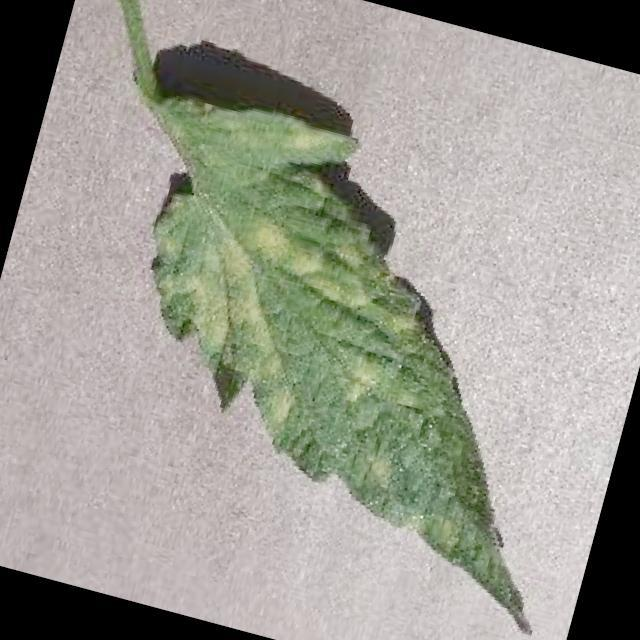Tomato mold leaf: (39, 77, 640, 636)
